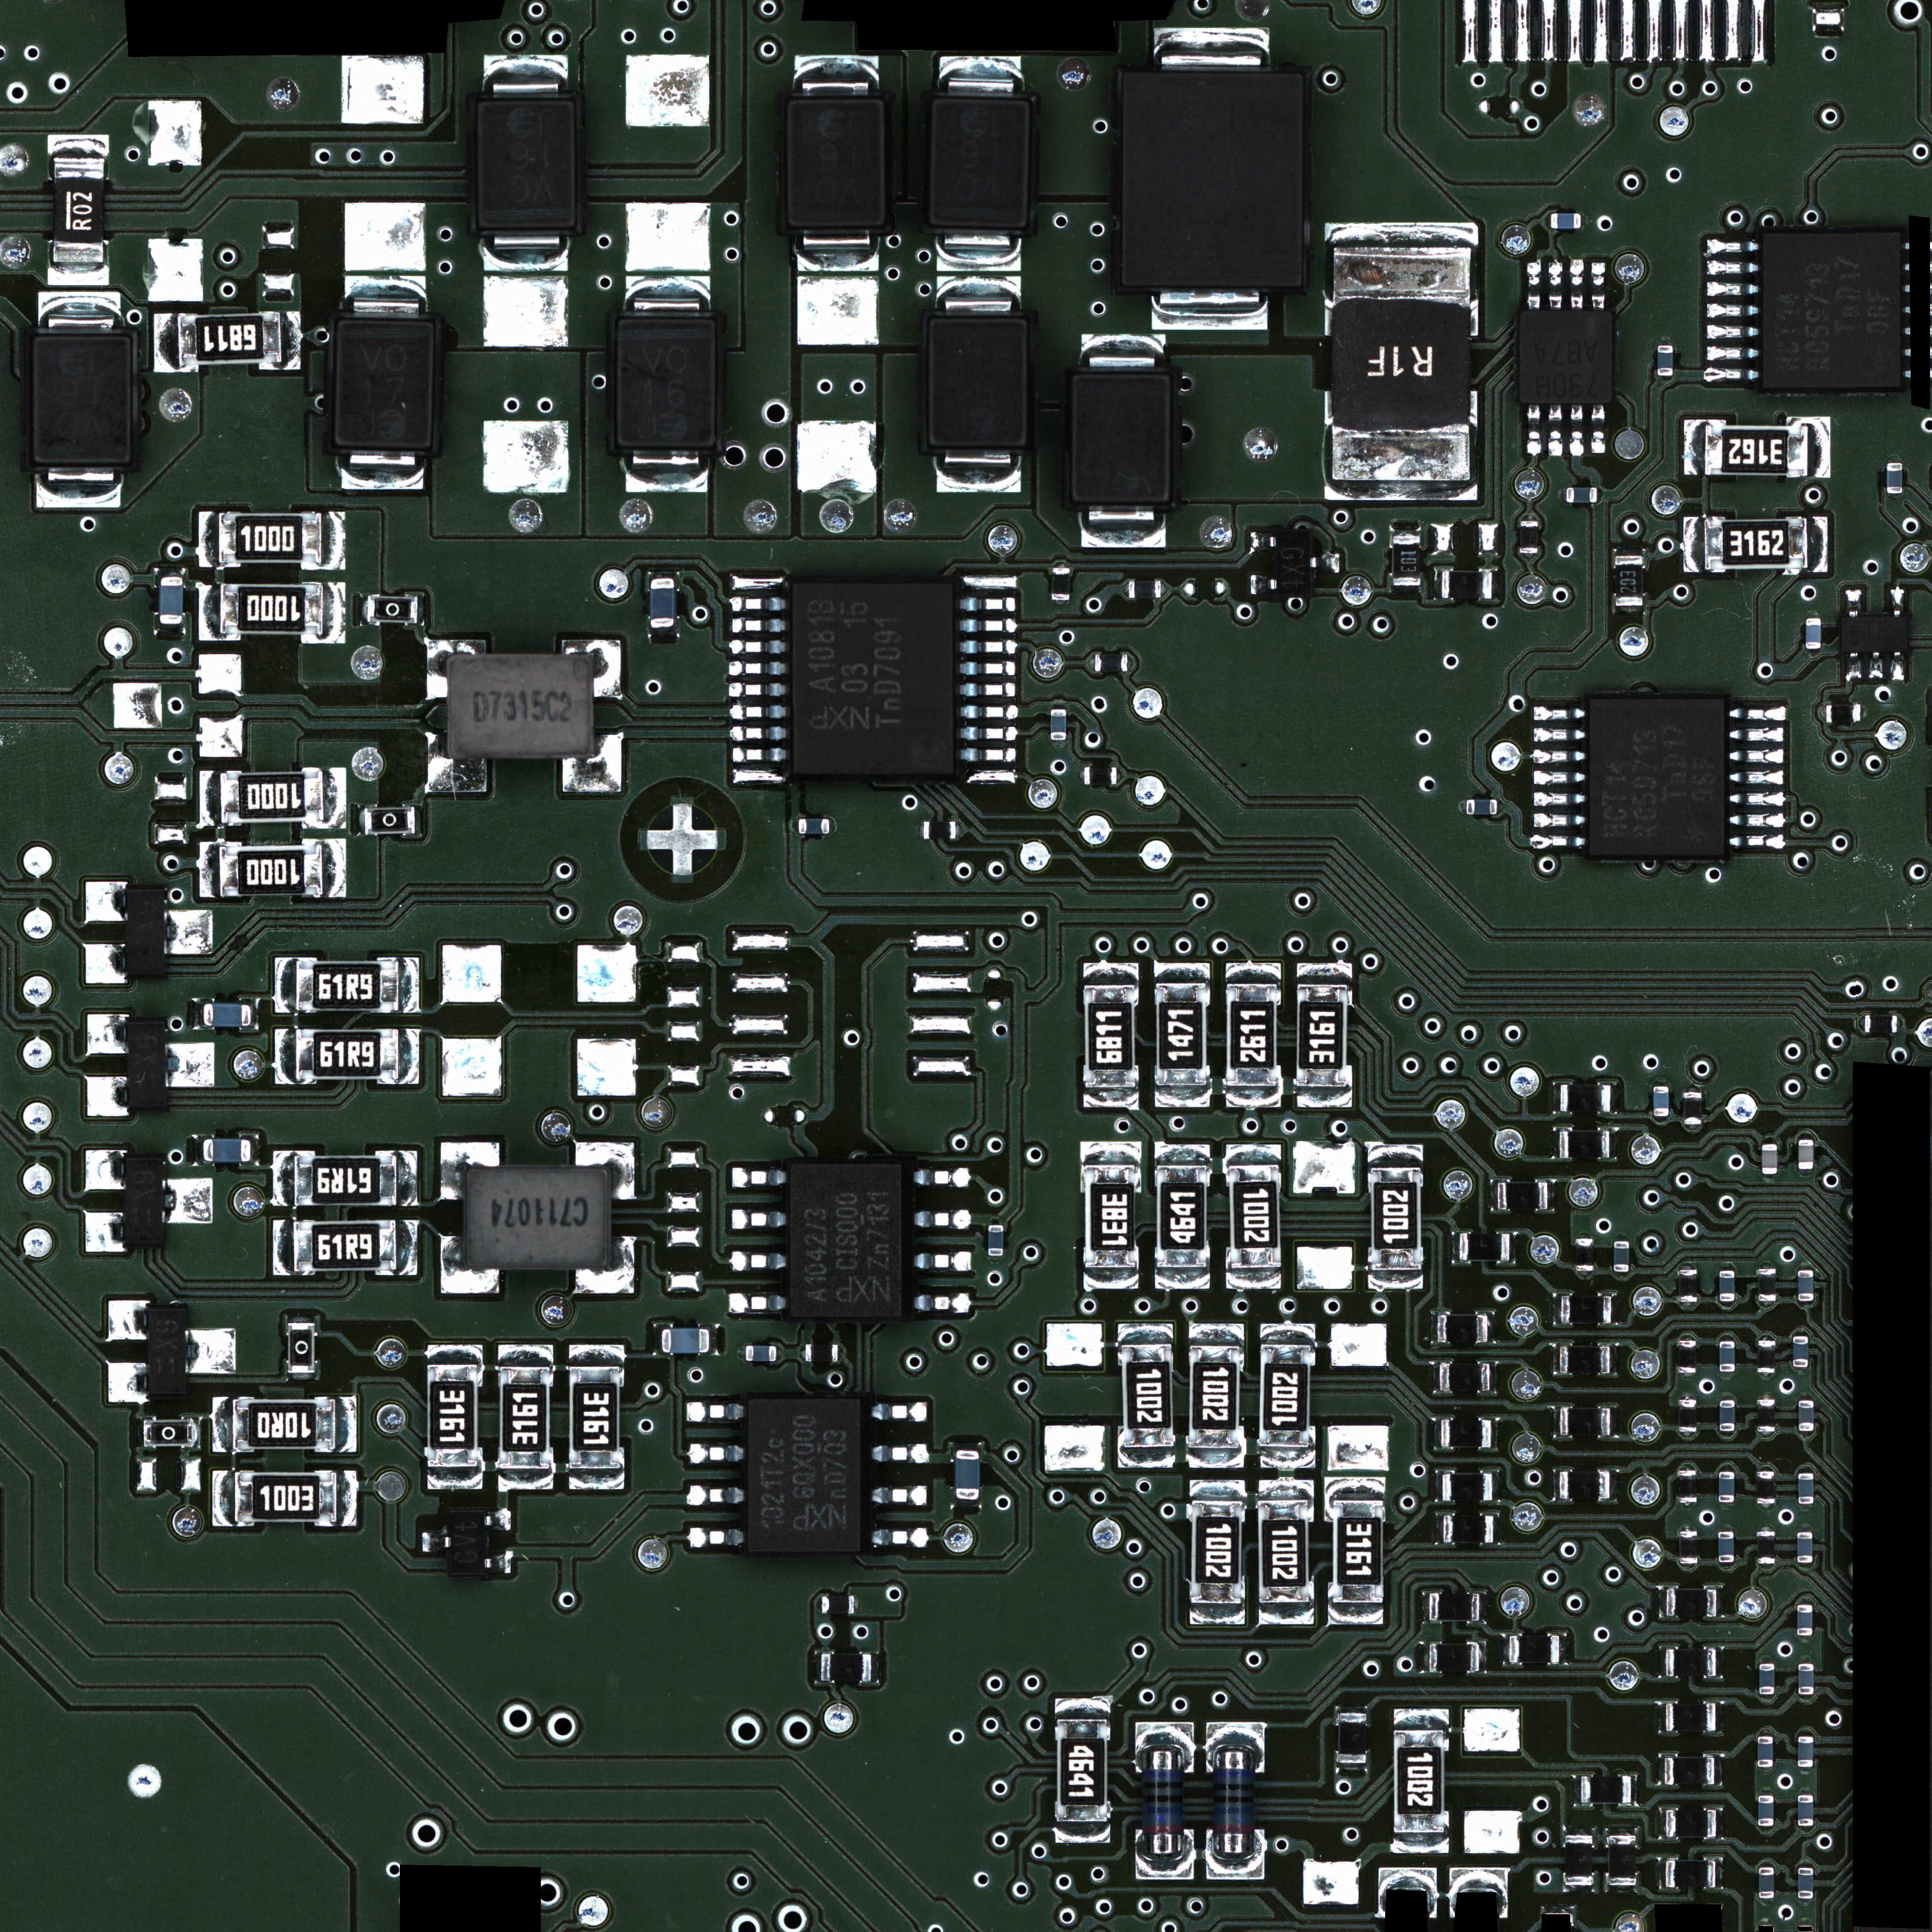Package: (1122, 71, 1302, 287), (1332, 248, 1470, 479), (791, 582, 955, 775), (1587, 699, 1725, 856), (1764, 234, 1900, 386), (747, 1398, 862, 1553), (787, 1162, 902, 1318), (464, 1164, 612, 1269), (446, 655, 594, 757), (786, 99, 886, 228), (30, 336, 131, 464), (931, 99, 1030, 228), (616, 318, 715, 448), (334, 320, 433, 449), (478, 101, 577, 228), (1070, 375, 1169, 502), (929, 318, 1026, 446), (1520, 311, 1614, 403), (1258, 1500, 1313, 1603), (1260, 1345, 1315, 1447), (426, 1364, 479, 1468), (1330, 1499, 1384, 1603), (218, 511, 322, 564), (1056, 1720, 1111, 1821), (1369, 1168, 1422, 1270), (1191, 1500, 1244, 1603), (221, 770, 324, 823), (219, 844, 324, 895), (295, 959, 400, 1010), (1394, 1729, 1445, 1833), (499, 1368, 552, 1468), (1297, 985, 1350, 1086), (235, 1472, 338, 1523), (234, 1399, 336, 1451), (1122, 1345, 1173, 1447), (1706, 425, 1808, 476), (1230, 1166, 1281, 1269), (295, 1030, 398, 1081), (294, 1221, 396, 1272), (1086, 1164, 1138, 1267), (570, 1368, 621, 1468), (1085, 985, 1136, 1086), (1157, 1166, 1208, 1267), (221, 584, 322, 635), (295, 1154, 396, 1205), (179, 313, 280, 364), (1191, 1345, 1240, 1449), (53, 159, 106, 257), (1706, 518, 1808, 568), (1157, 984, 1207, 1085), (1228, 985, 1277, 1085), (1143, 1748, 1184, 1856), (1215, 1748, 1254, 1856), (147, 1307, 188, 1396), (127, 1021, 168, 1109), (126, 1157, 165, 1246), (127, 888, 166, 975), (448, 1511, 487, 1573), (1842, 616, 1909, 651), (1277, 531, 1311, 594), (364, 807, 416, 835), (1608, 1835, 1637, 1886), (1392, 534, 1421, 586), (821, 1652, 872, 1681), (1566, 1835, 1594, 1886), (1667, 1704, 1716, 1732), (1438, 1315, 1488, 1343), (1430, 1644, 1479, 1672), (1560, 1131, 1610, 1159), (1444, 1514, 1493, 1543), (1615, 556, 1644, 605), (288, 1322, 315, 1373), (366, 596, 418, 623), (1442, 1474, 1493, 1500), (1667, 1589, 1716, 1615), (1499, 1182, 1548, 1208), (1460, 1233, 1509, 1260), (1562, 1297, 1612, 1323), (1665, 1757, 1714, 1783), (1560, 1408, 1610, 1435), (1430, 1594, 1479, 1621), (1442, 571, 1491, 598), (1442, 1421, 1491, 1447), (1667, 1649, 1716, 1675), (1560, 1472, 1610, 1499), (1560, 1085, 1610, 1111), (1560, 1346, 1610, 1373), (1509, 1637, 1559, 1663), (1582, 1776, 1631, 1803), (1667, 1861, 1716, 1888), (1667, 1810, 1716, 1836), (1440, 1364, 1490, 1391), (1339, 1713, 1366, 1762), (145, 1421, 195, 1445), (651, 579, 676, 628), (955, 1451, 980, 1499), (663, 1329, 709, 1353), (203, 1139, 251, 1162), (203, 1003, 251, 1026), (159, 577, 182, 623), (1826, 704, 1861, 724), (1520, 520, 1539, 554), (1757, 1530, 1776, 1564), (1679, 1530, 1698, 1564), (1051, 568, 1070, 600), (823, 1594, 855, 1614), (1575, 1238, 1594, 1270), (1684, 1092, 1702, 1125), (1865, 1016, 1898, 1033), (1679, 1339, 1697, 1373), (1759, 1269, 1776, 1300), (1129, 580, 1161, 598), (1679, 1399, 1697, 1431), (1085, 766, 1116, 784), (924, 821, 955, 839), (1095, 655, 1127, 672), (1679, 1470, 1697, 1502), (1757, 1472, 1775, 1504), (1679, 1270, 1697, 1302), (1759, 1339, 1775, 1373), (747, 1345, 777, 1362), (1798, 1399, 1813, 1431), (1798, 1472, 1813, 1504), (1799, 1663, 1815, 1695), (1798, 1736, 1813, 1767), (1798, 1270, 1813, 1302), (807, 1345, 839, 1361), (1757, 1736, 1773, 1767), (1759, 1399, 1775, 1431), (1658, 345, 1674, 375), (1762, 1145, 1778, 1175), (1798, 1605, 1813, 1635), (1051, 709, 1067, 740), (1798, 1139, 1813, 1169), (1798, 1796, 1813, 1826), (1798, 1532, 1813, 1562), (1798, 1868, 1813, 1898), (1720, 1401, 1736, 1431), (1759, 1796, 1775, 1826), (1720, 1270, 1736, 1300), (1720, 1341, 1736, 1371), (1614, 1242, 1629, 1272), (1759, 1868, 1775, 1898), (1720, 1472, 1736, 1502), (1566, 488, 1598, 502), (1794, 1336, 1808, 1368), (1552, 212, 1580, 228), (1760, 1663, 1775, 1695), (800, 819, 830, 833), (1720, 1532, 1734, 1562), (1467, 800, 1497, 814), (1654, 1086, 1668, 1116), (1806, 617, 1821, 648), (1888, 464, 1902, 494)
Solder: (1155, 28, 1270, 71), (1154, 288, 1267, 331), (938, 446, 1021, 494), (485, 55, 568, 101), (1081, 504, 1166, 548), (37, 464, 122, 508), (794, 55, 879, 99), (575, 1141, 635, 1201), (428, 732, 488, 793), (939, 55, 1021, 99), (345, 276, 426, 320), (626, 448, 708, 492), (1323, 223, 1479, 246), (938, 276, 1021, 318), (938, 228, 1021, 271), (39, 292, 122, 334), (563, 734, 623, 793), (1081, 334, 1166, 375), (626, 276, 711, 317), (563, 639, 621, 697), (485, 230, 568, 271), (798, 228, 878, 271), (341, 449, 423, 490), (441, 1237, 499, 1293), (426, 640, 485, 697), (1325, 479, 1477, 501), (442, 1141, 499, 1198), (577, 1237, 633, 1293), (166, 1042, 216, 1088), (165, 1178, 212, 1224), (188, 1329, 235, 1375), (166, 909, 212, 955), (87, 1076, 127, 1116), (85, 943, 126, 984), (87, 1014, 127, 1054), (85, 1150, 126, 1189), (85, 1212, 124, 1253), (85, 881, 126, 920), (108, 1300, 147, 1339), (108, 1362, 147, 1401), (913, 1249, 973, 1274), (1134, 1721, 1194, 1746), (913, 1207, 971, 1231), (1207, 1721, 1265, 1746), (1368, 1143, 1424, 1168), (1808, 418, 1831, 478), (324, 768, 347, 828), (1325, 1476, 1385, 1499), (686, 1483, 745, 1506), (50, 134, 108, 157), (686, 1525, 745, 1548), (1136, 1856, 1194, 1879), (1207, 1856, 1265, 1879), (729, 1292, 786, 1315), (568, 1345, 625, 1368), (913, 1290, 970, 1313), (688, 1440, 745, 1463), (212, 1470, 235, 1527), (324, 584, 345, 644), (870, 1444, 931, 1465), (1081, 1141, 1141, 1162), (48, 264, 108, 285), (499, 1345, 554, 1368), (870, 1484, 929, 1506), (156, 313, 177, 372), (324, 839, 345, 897), (870, 1527, 929, 1548), (324, 511, 345, 570), (1378, 1868, 1437, 1890), (1449, 1868, 1507, 1890), (732, 1249, 786, 1272), (732, 1207, 786, 1230), (913, 1166, 970, 1187), (686, 1401, 743, 1422), (1118, 1447, 1175, 1468), (1083, 1088, 1139, 1109), (1260, 1323, 1316, 1345), (1118, 1323, 1175, 1345), (1260, 1447, 1316, 1468), (1258, 1603, 1315, 1624), (568, 1468, 625, 1490), (212, 1396, 234, 1453), (336, 1396, 357, 1453), (428, 1468, 483, 1490), (1226, 1086, 1281, 1108), (1297, 962, 1352, 984), (1085, 1269, 1139, 1290), (1155, 1086, 1210, 1108), (1329, 1603, 1384, 1624), (1056, 1697, 1111, 1718), (200, 770, 221, 824), (1684, 517, 1706, 571), (1191, 1603, 1246, 1624), (1189, 1323, 1244, 1345), (1191, 1479, 1246, 1500), (281, 311, 301, 370), (1085, 962, 1138, 984), (732, 1168, 786, 1189), (1368, 1270, 1424, 1290), (1392, 1835, 1449, 1854), (1054, 1824, 1111, 1844), (426, 1345, 483, 1364), (200, 584, 219, 640), (276, 957, 295, 1014), (276, 1028, 295, 1085), (338, 1470, 357, 1527), (1258, 1479, 1315, 1499), (1226, 962, 1281, 982), (1297, 1088, 1352, 1108), (1155, 1269, 1210, 1288), (400, 957, 419, 1012), (499, 1470, 554, 1490), (1189, 1449, 1244, 1468), (1684, 419, 1704, 474), (398, 1221, 418, 1276), (398, 1150, 418, 1205), (1226, 1143, 1281, 1162), (200, 842, 219, 897), (1394, 1709, 1449, 1729), (1155, 1143, 1210, 1162), (198, 511, 218, 566), (274, 1150, 294, 1205), (1808, 517, 1828, 571), (1228, 1269, 1281, 1288), (870, 1403, 927, 1421), (1704, 366, 1760, 384), (1155, 962, 1210, 980), (400, 1030, 418, 1085), (274, 1221, 292, 1276), (961, 704, 1019, 720), (1709, 303, 1760, 320), (961, 747, 1017, 763), (961, 617, 1017, 633), (729, 596, 786, 612), (731, 704, 786, 720), (961, 681, 1016, 697), (1730, 812, 1785, 828), (731, 725, 786, 741), (961, 596, 1016, 612), (1730, 791, 1785, 807), (1730, 748, 1785, 764), (732, 747, 786, 763), (734, 768, 787, 784), (1730, 770, 1783, 786), (1706, 237, 1759, 253), (1707, 260, 1760, 276), (1707, 347, 1760, 363), (1569, 405, 1585, 456), (1534, 791, 1585, 807), (1707, 281, 1759, 297), (1707, 324, 1759, 340), (729, 662, 786, 676), (729, 683, 786, 697), (961, 727, 1017, 741), (961, 640, 1017, 655), (961, 575, 1017, 589), (729, 639, 786, 653), (1730, 835, 1785, 849), (961, 662, 1016, 676), (1530, 835, 1585, 849), (1730, 706, 1785, 720), (732, 617, 787, 632), (1730, 727, 1783, 741), (1532, 748, 1585, 763), (732, 575, 786, 589), (1534, 706, 1585, 720), (1548, 405, 1562, 456), (1534, 771, 1585, 786), (1534, 814, 1585, 828), (1527, 405, 1541, 455), (1527, 258, 1541, 308), (1591, 262, 1605, 310), (1592, 405, 1606, 453), (1569, 260, 1583, 308), (1534, 729, 1585, 741), (1550, 258, 1562, 310), (1249, 531, 1276, 552), (1311, 554, 1339, 573), (487, 1553, 511, 1575), (488, 1509, 511, 1530), (1251, 575, 1276, 594), (1845, 587, 1861, 616), (1845, 651, 1861, 679), (1890, 587, 1905, 616), (423, 1532, 446, 1552), (1891, 651, 1905, 681), (1868, 651, 1882, 679), (653, 1323, 663, 1355), (950, 1440, 982, 1451), (648, 628, 679, 639), (709, 1325, 720, 1355), (950, 1499, 982, 1507), (648, 570, 679, 579), (1433, 568, 1442, 600), (1391, 586, 1422, 594), (1336, 1762, 1368, 1771), (1573, 1775, 1582, 1806), (251, 998, 260, 1030), (195, 998, 203, 1030), (251, 1134, 260, 1166), (1391, 527, 1421, 536), (1490, 1180, 1499, 1210), (1559, 1633, 1568, 1663), (1658, 1808, 1667, 1838), (1566, 1826, 1594, 1835), (1610, 1408, 1619, 1437), (195, 1136, 203, 1164), (418, 593, 425, 626), (1431, 1311, 1438, 1345), (1488, 1311, 1495, 1345), (1491, 571, 1500, 598), (287, 1373, 318, 1380), (285, 1315, 317, 1322), (872, 1651, 879, 1683), (814, 1651, 821, 1683), (357, 805, 364, 837), (359, 594, 366, 626), (1336, 1706, 1368, 1713), (1610, 1127, 1617, 1159), (1553, 1127, 1560, 1159), (1453, 1231, 1460, 1263), (1490, 1361, 1497, 1392), (1433, 1361, 1440, 1392), (1435, 1417, 1442, 1449), (1437, 1513, 1444, 1545), (1553, 1468, 1560, 1500), (1479, 1642, 1486, 1674), (1422, 1592, 1430, 1624), (1422, 1642, 1430, 1674), (1564, 1886, 1596, 1893), (1606, 1828, 1638, 1835), (1660, 1858, 1667, 1890), (416, 805, 423, 835), (1615, 607, 1645, 614), (1553, 1083, 1560, 1113), (1548, 1180, 1555, 1210), (1509, 1233, 1516, 1263), (1493, 1470, 1500, 1500), (1502, 1635, 1509, 1665), (1631, 1775, 1638, 1805), (1493, 1513, 1500, 1543), (1610, 1470, 1617, 1500), (1553, 1407, 1560, 1437), (1553, 1293, 1560, 1323), (1716, 1587, 1723, 1617), (1660, 1587, 1667, 1617), (1716, 1647, 1723, 1677), (1660, 1647, 1667, 1677), (1716, 1702, 1723, 1732), (1660, 1702, 1667, 1732), (1658, 1755, 1665, 1785), (1716, 1808, 1723, 1838), (1716, 1858, 1723, 1888), (138, 1419, 145, 1447), (1615, 548, 1644, 556), (1553, 1345, 1560, 1373), (1612, 1295, 1619, 1323), (1714, 1757, 1721, 1785), (736, 1345, 747, 1362), (1610, 1346, 1617, 1373), (1605, 1886, 1638, 1891), (1656, 336, 1675, 345), (1491, 1417, 1497, 1449), (1437, 1470, 1442, 1502), (1479, 1591, 1484, 1622), (1543, 1907, 1575, 1913), (1718, 1523, 1736, 1532), (1582, 214, 1592, 228), (1612, 1085, 1617, 1113), (1051, 701, 1067, 709), (1051, 740, 1067, 748), (955, 823, 964, 839), (791, 819, 800, 835), (1798, 1635, 1813, 1644), (816, 1594, 823, 1614), (777, 1345, 784, 1362), (800, 1345, 807, 1362), (1088, 655, 1095, 672), (830, 817, 837, 835), (1458, 800, 1467, 814), (1684, 1085, 1702, 1092), (1886, 456, 1904, 464), (1615, 1233, 1629, 1242), (1759, 1300, 1776, 1307), (1679, 1431, 1697, 1438), (1679, 1502, 1697, 1509), (1798, 1504, 1815, 1511), (1798, 1431, 1815, 1438), (1798, 1392, 1815, 1399), (1798, 1132, 1815, 1139), (1819, 704, 1826, 722), (1053, 561, 1069, 568), (1122, 582, 1129, 598), (1161, 582, 1168, 598), (1077, 768, 1085, 784), (1598, 488, 1605, 504), (1559, 487, 1566, 502), (1652, 1116, 1668, 1123), (1652, 1079, 1668, 1086), (1805, 649, 1821, 656), (1805, 610, 1821, 617), (1576, 1231, 1592, 1238), (1720, 1263, 1736, 1270), (1798, 1263, 1813, 1270), (1720, 1371, 1736, 1378), (1759, 1373, 1775, 1380), (1679, 1392, 1695, 1399), (1679, 1463, 1695, 1470), (1720, 1562, 1736, 1569), (1798, 1562, 1813, 1569), (1798, 1525, 1813, 1532), (1759, 1826, 1775, 1833), (1799, 1826, 1815, 1833), (1798, 1789, 1813, 1796), (1759, 1861, 1775, 1868), (1798, 1861, 1813, 1868), (1759, 1789, 1775, 1796), (1757, 1767, 1773, 1775), (1798, 1729, 1813, 1736), (1798, 1767, 1813, 1775), (1798, 1598, 1813, 1605), (1759, 1504, 1775, 1511), (1759, 1465, 1775, 1472), (1720, 1394, 1736, 1401), (1759, 1392, 1775, 1399), (1762, 1136, 1778, 1143), (1798, 1169, 1813, 1177), (1858, 1016, 1865, 1031), (1861, 706, 1868, 722), (196, 1417, 200, 1447), (916, 823, 924, 837), (1497, 800, 1504, 814), (1578, 1270, 1592, 1277), (1615, 1272, 1629, 1279), (1799, 1656, 1813, 1663), (1720, 1502, 1734, 1509), (1720, 1465, 1734, 1472), (856, 1596, 862, 1614), (1684, 1125, 1702, 1131), (1798, 1467, 1815, 1472), (1760, 1175, 1778, 1180), (839, 1345, 844, 1361), (1053, 602, 1069, 607), (1129, 655, 1134, 671), (1118, 768, 1123, 784), (1545, 212, 1550, 228), (1658, 375, 1674, 380), (1522, 515, 1537, 520), (1522, 554, 1537, 559), (1886, 494, 1902, 499), (1679, 1302, 1695, 1307), (1681, 1263, 1697, 1269), (1720, 1302, 1736, 1307), (1759, 1263, 1775, 1269), (1798, 1302, 1813, 1307), (1679, 1334, 1695, 1339), (1679, 1373, 1695, 1378), (1720, 1336, 1736, 1341), (1759, 1334, 1775, 1339), (1792, 1368, 1808, 1373), (1792, 1330, 1808, 1336), (1681, 1525, 1697, 1530), (1681, 1564, 1697, 1569), (1759, 1525, 1775, 1530), (1759, 1562, 1775, 1568), (1759, 1898, 1775, 1904), (1798, 1898, 1813, 1904), (1720, 1431, 1736, 1437), (1759, 1431, 1775, 1437), (1898, 1016, 1904, 1031), (1759, 1730, 1773, 1736), (1799, 1695, 1813, 1700), (1760, 1658, 1775, 1663), (1760, 1695, 1775, 1700)
